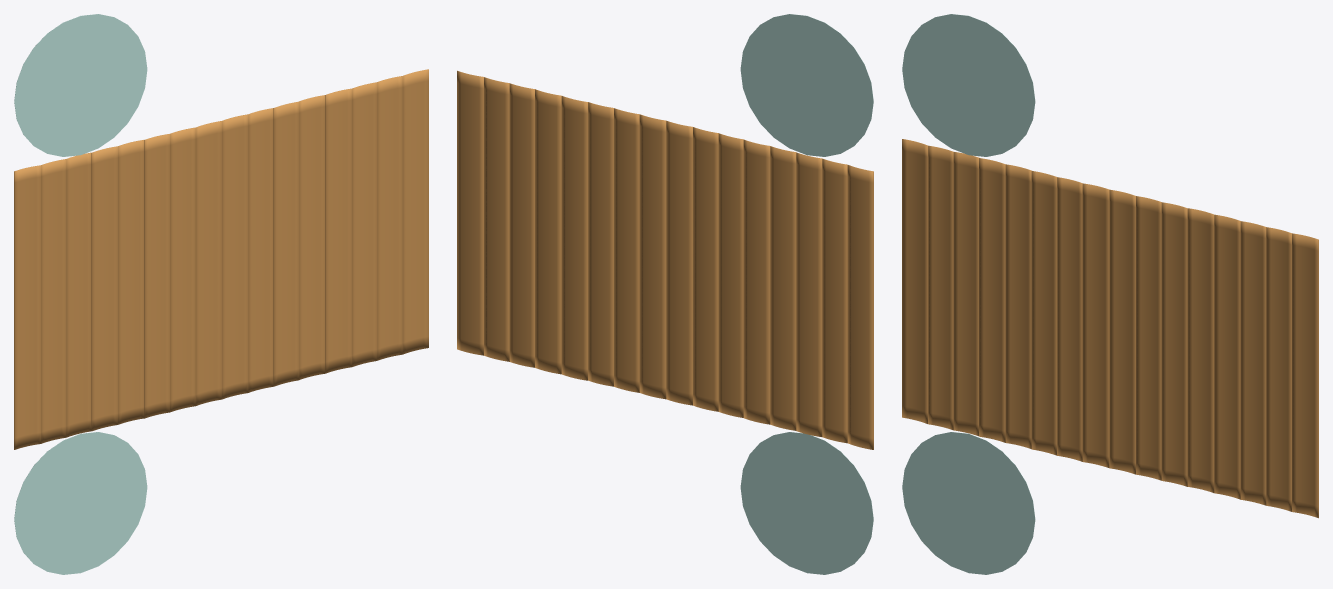
3 views of the same model, side by side, from view 1: azimuth 30°, elevation 25°; view 2: azimuth 150°, elevation 25°; view 3: azimuth 330°, elevation 25° (orthographic).
Visible parts, largest first — view 1: 未命名.017, 未命名.016, 未命名.008, 未命名.015, 未命名, 未命名.003, 未命名.007, 未命名.010, 未命名.011, 未命名.012, 未命名.004, 未命名.006 (+6 smaller); view 2: 未命名.016, 未命名.017, 未命名.004, 未命名.008, 未命名.011, 未命名.007, 未命名.015, 未命名.002, 未命名.003, 未命名.012, 未命名, 未命名.013 (+6 smaller); view 3: 未命名.016, 未命名.017, 未命名.007, 未命名.011, 未命名.004, 未命名.013, 未命名.008, 未命名.015, 未命名.003, 未命名.005, 未命名.010, 未命名.012 (+6 smaller).
Part boxes in pixels (x1,y1,x2,y2): 未命名.017: (14, 432, 147, 574); 未命名.016: (14, 14, 147, 156); 未命名.008: (222, 114, 248, 399); 未命名.015: (402, 69, 428, 354); 未命名: (14, 165, 40, 449); 未命名.003: (91, 146, 117, 431); 未命名.007: (195, 121, 221, 405); 未命名.010: (273, 101, 299, 386); 未命名.011: (299, 95, 325, 379); 未命名.012: (325, 88, 351, 373); 未命名.004: (118, 140, 144, 424); 未命名.006: (170, 127, 195, 412); 未命名.016: (740, 14, 873, 156); 未命名.017: (740, 432, 873, 574); 未命名.004: (743, 139, 770, 424); 未命名.008: (639, 114, 666, 399); 未命名.011: (561, 96, 588, 380); 未命名.007: (666, 120, 692, 405); 未命名.015: (457, 70, 483, 355); 未命名.002: (796, 152, 822, 436); 未命名.003: (770, 146, 796, 430); 未命名.012: (535, 89, 561, 374); 未命名: (847, 165, 873, 449); 未命名.013: (509, 83, 534, 367); 未命名.016: (902, 14, 1035, 156); 未命名.017: (902, 432, 1035, 574); 未命名.007: (1082, 183, 1109, 468); 未命名.011: (1187, 208, 1214, 492); 未命名.004: (1005, 164, 1031, 448); 未命名.013: (1240, 221, 1266, 505); 未命名.008: (1109, 189, 1135, 474); 未命名.015: (1292, 233, 1318, 518); 未命名.003: (979, 158, 1005, 442); 未命名.005: (1031, 171, 1057, 455); 未命名.010: (1161, 202, 1187, 486); 未命名.012: (1214, 214, 1240, 499).
Size of the model in its own units: 3.96 by 5.08 by 0.0358.
